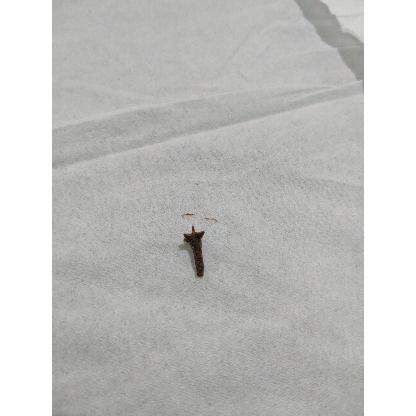buruk: (183, 226, 204, 277)
